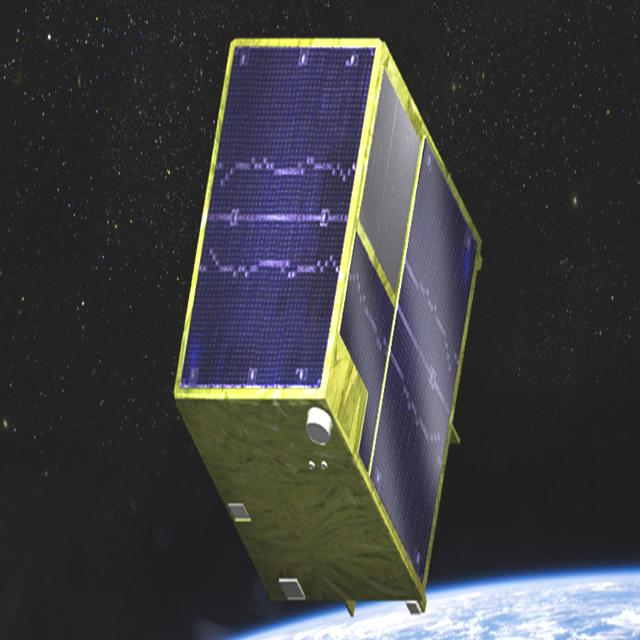medium_debris: (158, 1, 481, 640)
